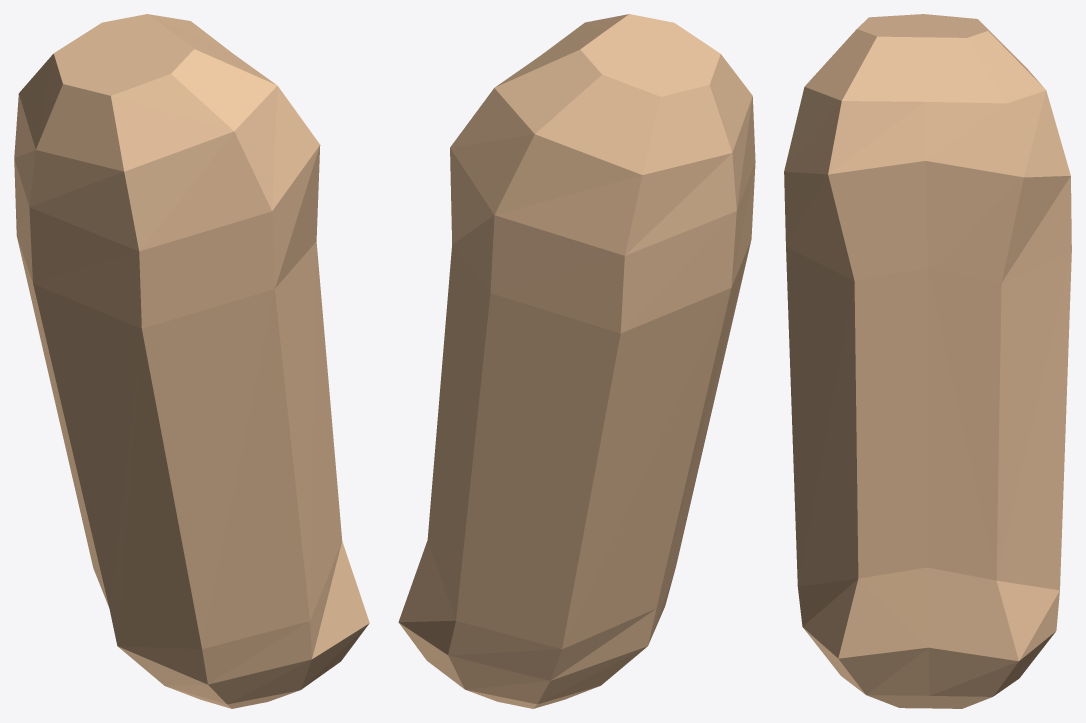
File: LFing21_mesh.dae
3 views of the same model, side by side, from view 1: azimuth 30°, elevation 25°; view 2: azimuth 150°, elevation 25°; view 3: azimuth 270°, elevation 25° (orthographic). The views are drawn at different scales.
Visible parts, largest first — view 1: LFing21; view 2: LFing21; view 3: LFing21.
Boxes of the visible parts, x1,y1,x2,y2 form: LFing21: (14,14,369,708); LFing21: (398,14,755,708); LFing21: (784,14,1071,708).
Size of the model in its own units: 0.0196 by 0.0433 by 0.0179.
